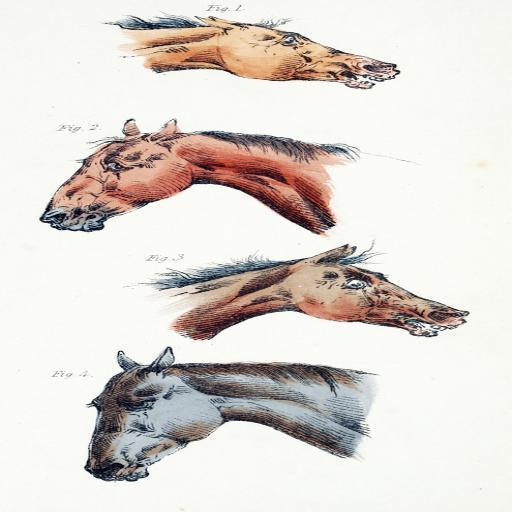horse: (82, 348, 376, 482), (40, 116, 367, 234), (132, 244, 474, 343), (100, 14, 404, 90)
